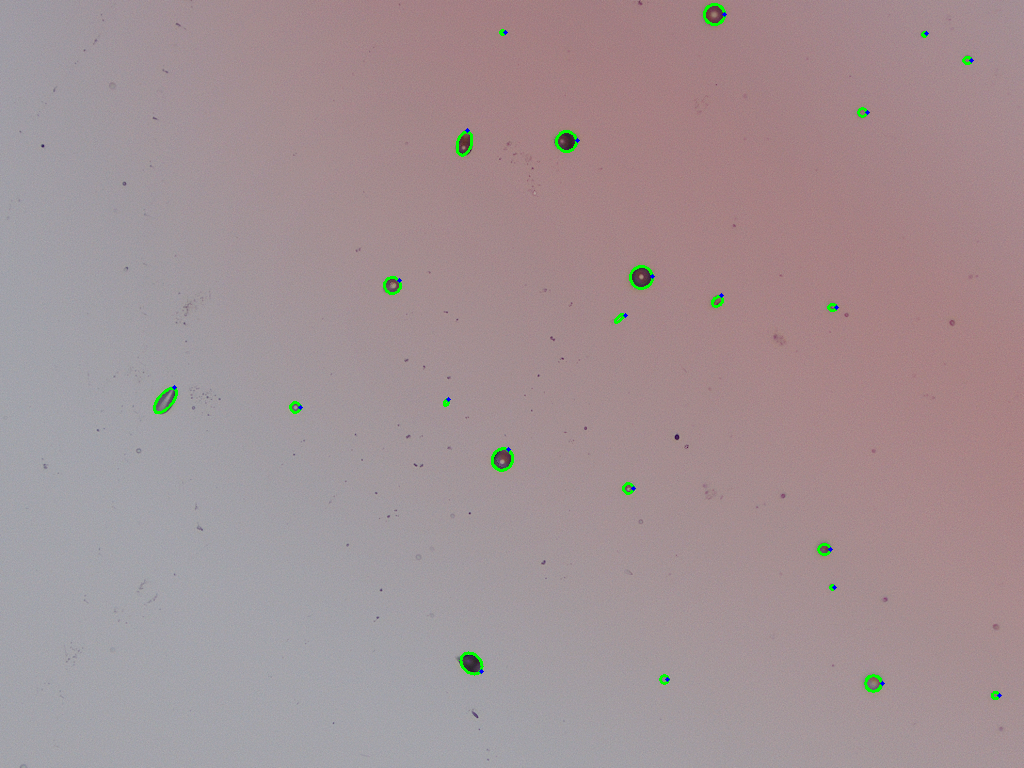circle: (703, 4, 724, 24), (865, 674, 882, 691), (818, 543, 830, 555), (290, 402, 300, 412), (623, 483, 633, 493), (857, 108, 867, 117), (963, 56, 971, 64), (828, 303, 836, 311), (991, 691, 999, 698), (499, 30, 505, 35), (829, 584, 834, 589), (921, 31, 926, 36)
ellipse: (555, 131, 578, 151), (661, 674, 667, 684)
